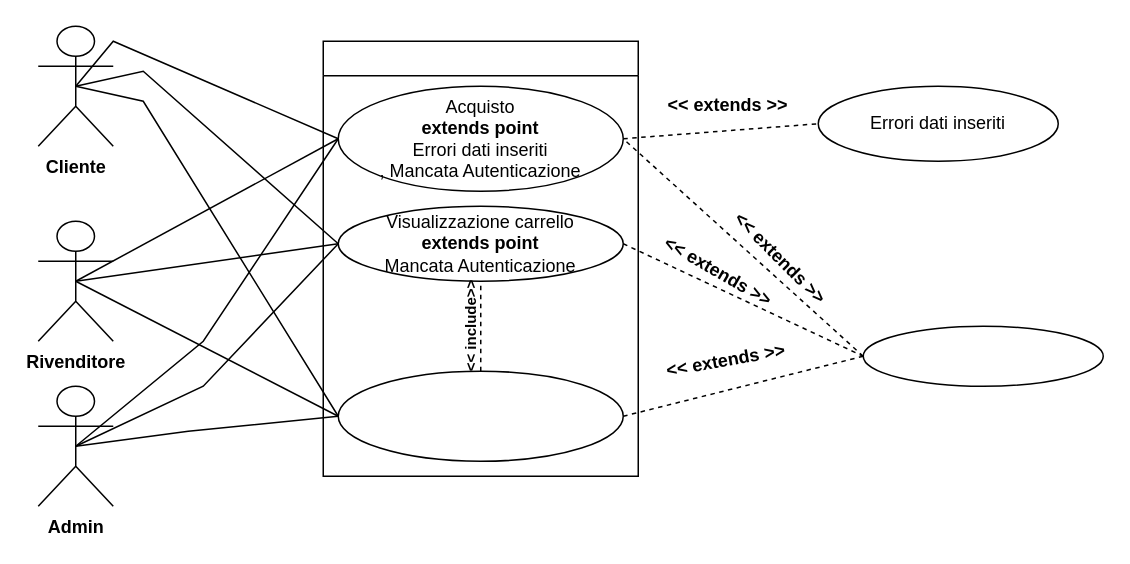
This 1130x564 diagram has some shape labels left out. The box of each missing label's shape, as (x1, y1, x2, y2) in pixels:
Gestione Carrello: (322, 40, 638, 476)
Mancata Autenticazione: (862, 325, 1103, 386)
Modifica Carrello extends point Mancata Autenticazione: (337, 370, 623, 461)
